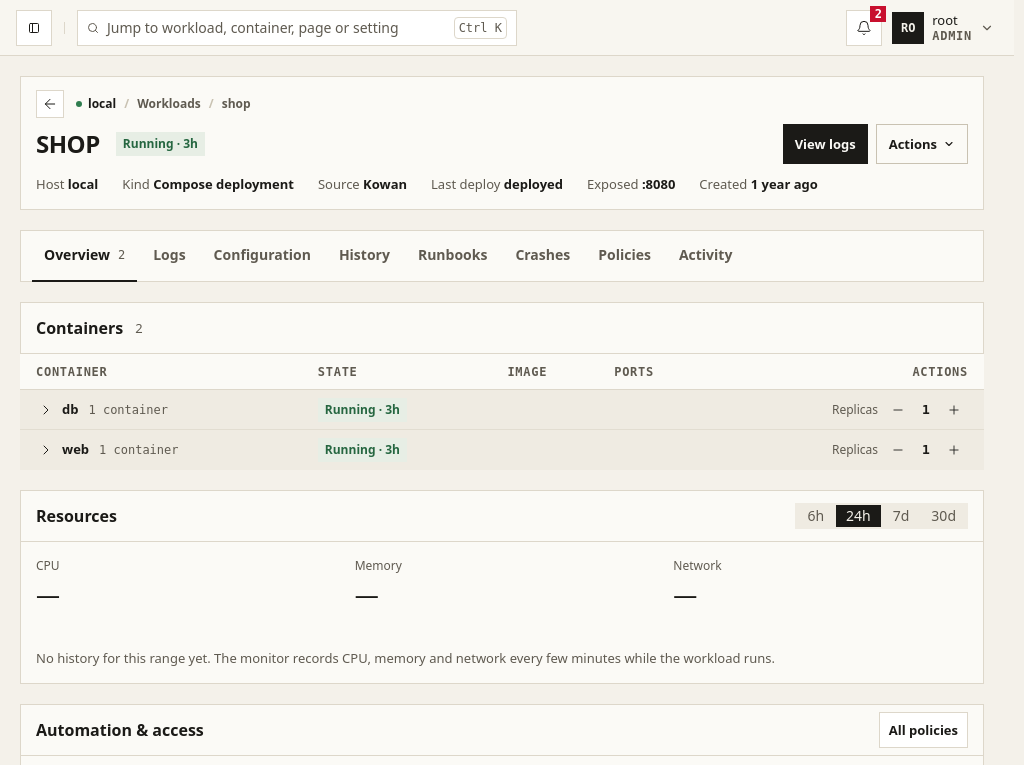
Test case: workload policies › changes the update policy with an explicit selection
Expected: the heading "shop" is shown, top-left (36, 128), bottom-right (100, 160)
Click the tab "Policies" at (625, 256), box top-left (586, 230), bottom-right (663, 282)
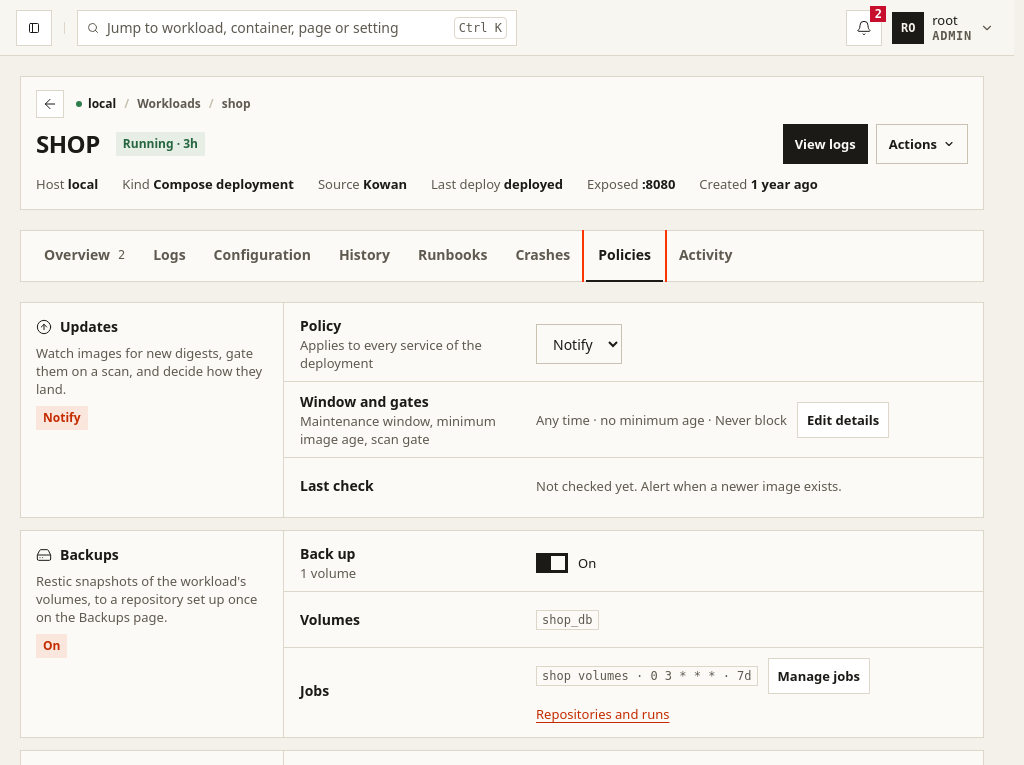
Now the dropdown named "update policy for shop" is shown
Now the dropdown named "update policy for shop" shows "Notify"
Select "Pull" in the dropdown named "update policy for shop" at (579, 344), box top-left (536, 324), bottom-right (622, 364)
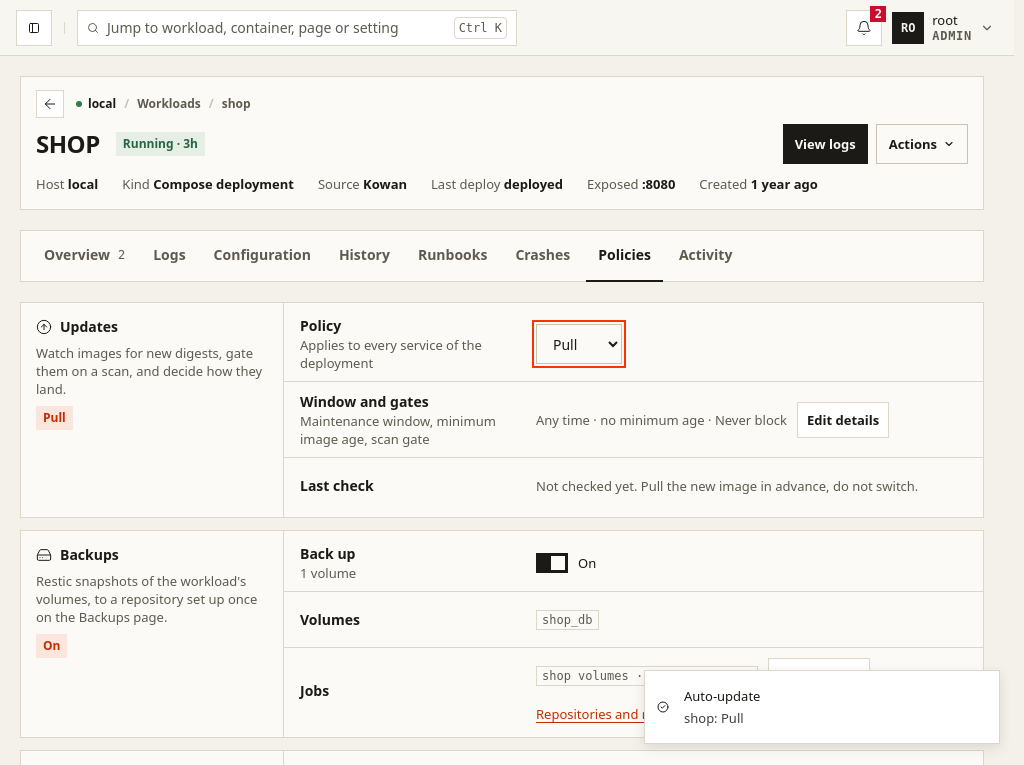
Now the text "shop: Pull" is shown, box top-left (684, 709), bottom-right (744, 727)
